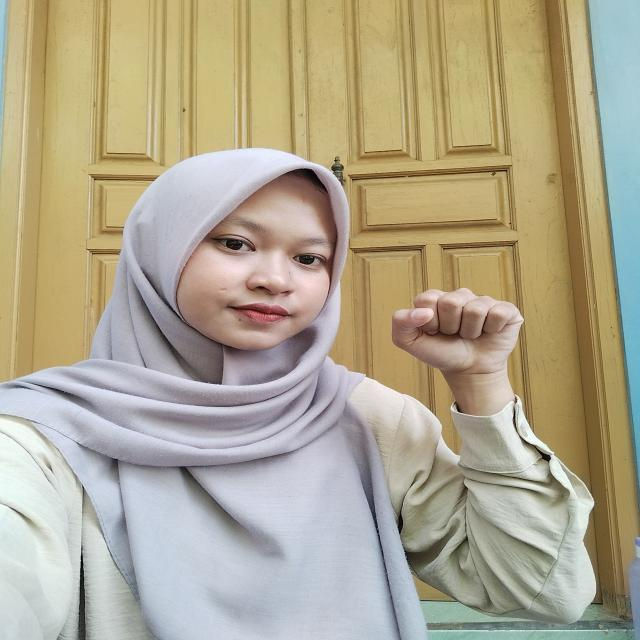baik: (380, 278, 535, 448)
